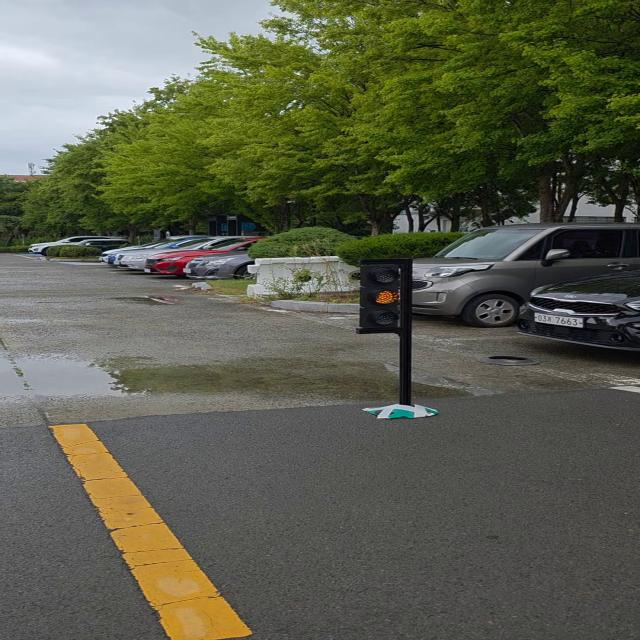yellow: (360, 265, 407, 336)
